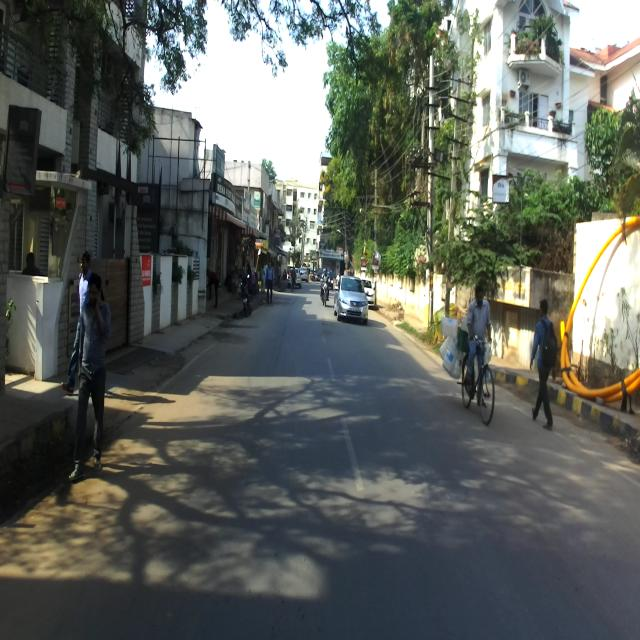bicycle ahead at: (444, 348, 501, 422)
person ahead at: (68, 249, 113, 481), (527, 299, 566, 439)
